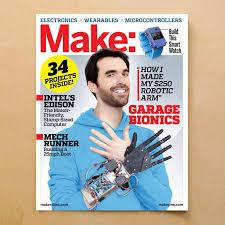Printing industry: (24, 8, 192, 220)
